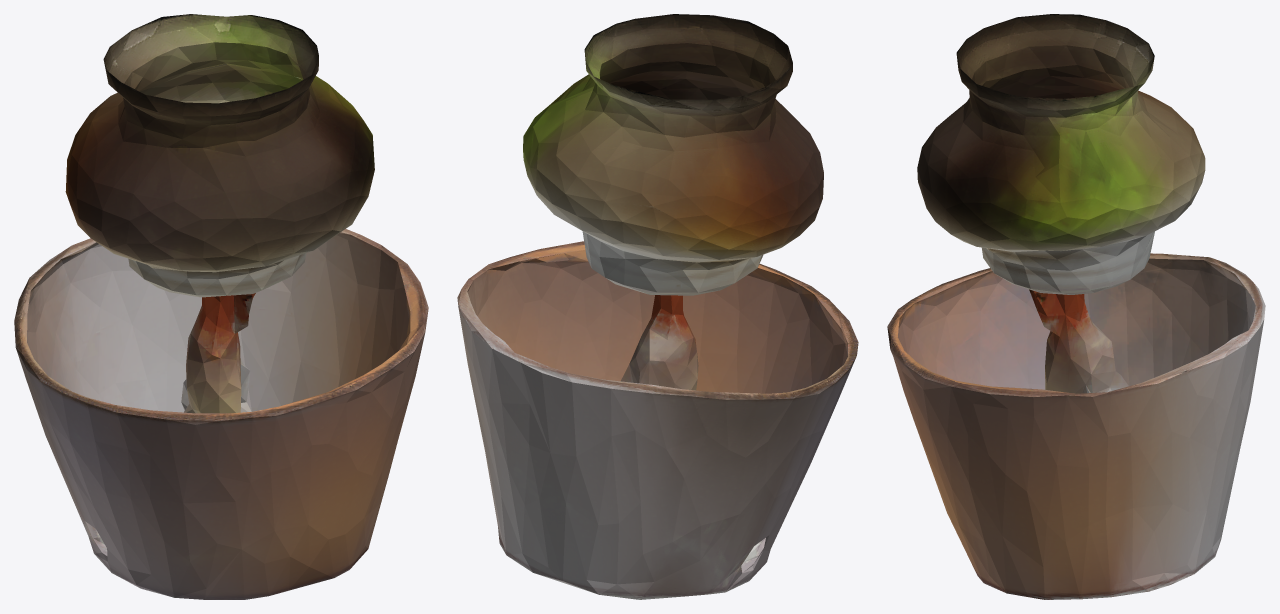
File: sam3_lamp_01.scene-fit.glb
The picture shows the model from 3 angles, left to right: view 1: azimuth 30°, elevation 25°; view 2: azimuth 150°, elevation 25°; view 3: azimuth 270°, elevation 25°; orthographic projection. The views are drawn at different scales.
Visible parts, largest first — view 1: world; view 2: world; view 3: world.
Part boxes in pixels (x1=…): world: x1=14, y1=14, x2=428, y2=599; world: x1=457, y1=14, x2=858, y2=599; world: x1=887, y1=14, x2=1265, y2=599.
Bounding box in the file's own units: 2.17 × 2.93 × 2.07.
Materials: 1 (1 with a texture image).
